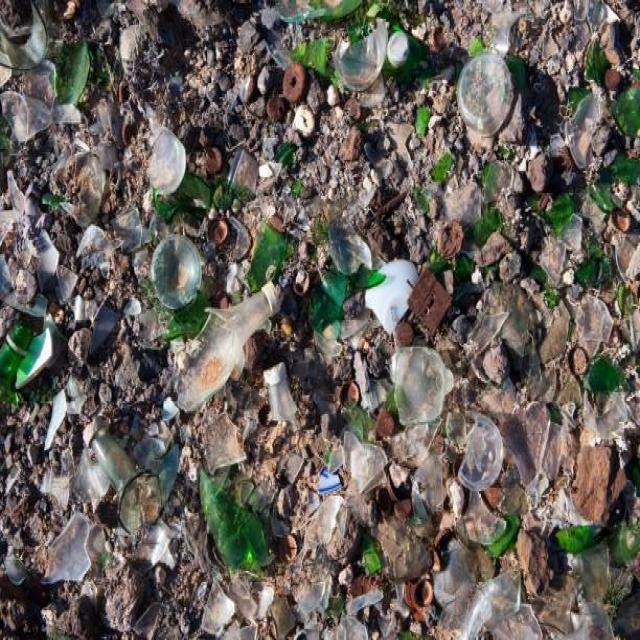electronic: (79, 224, 301, 576)
